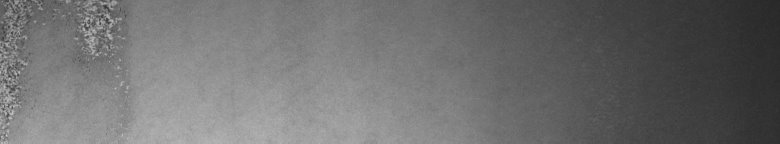hc: (4, 4, 128, 136)
